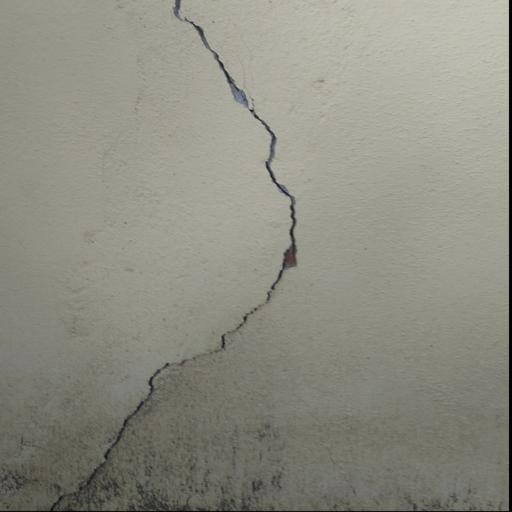major_crack: (59, 0, 306, 512)
